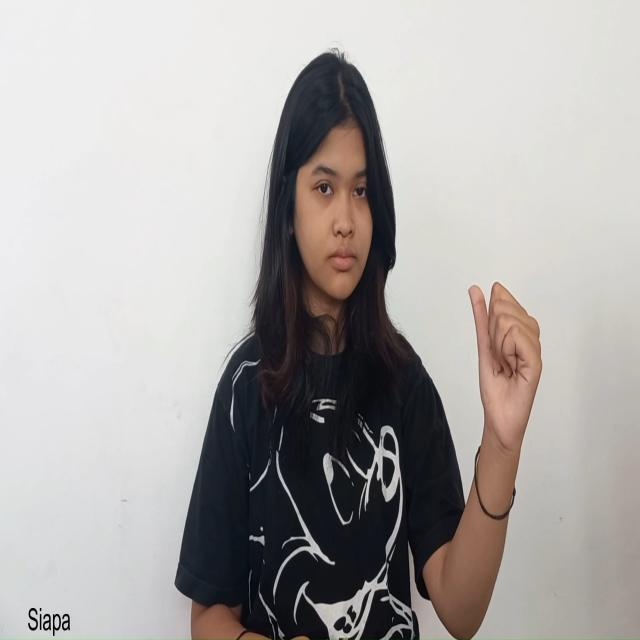Siapa -BISINDO-: (467, 278, 543, 464)
